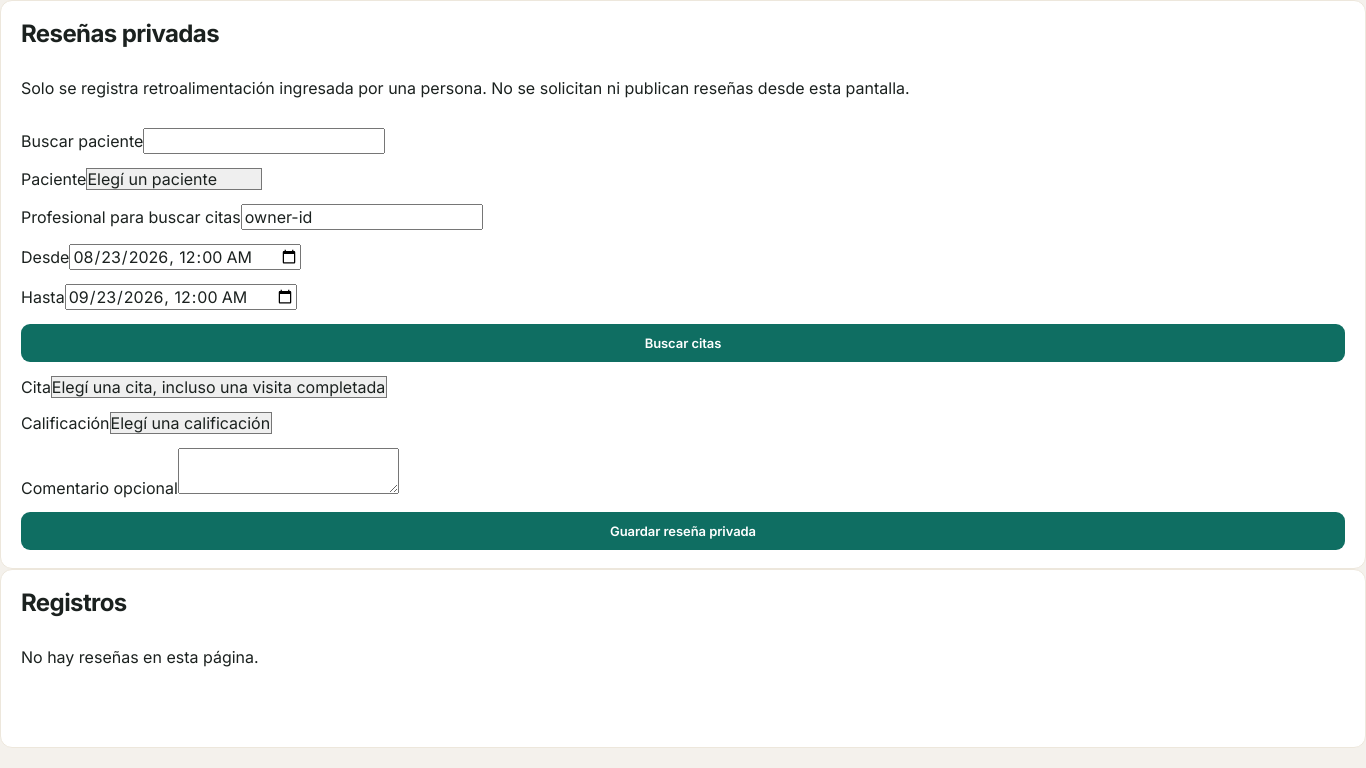
it: ReviewsPage › rejects a fresh appointment with missing or empty patientId before creating a review
Select "Ana Uno · expediente 1" in the dropdown labelled "Paciente" at x=174, y=179, box x1=86 y1=168 x2=262 y2=190
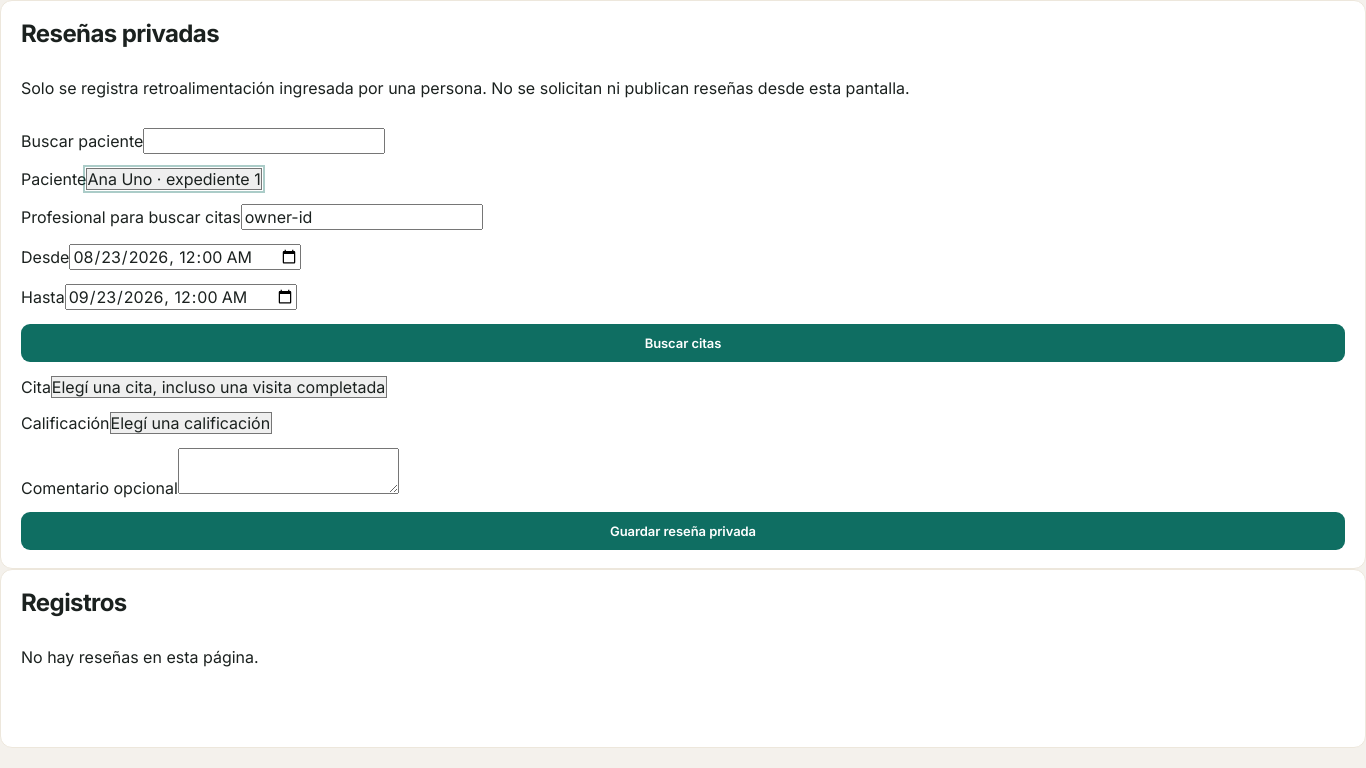
Click the button "Buscar citas".
click(683, 343)  # box x1=21 y1=324 x2=1345 y2=362
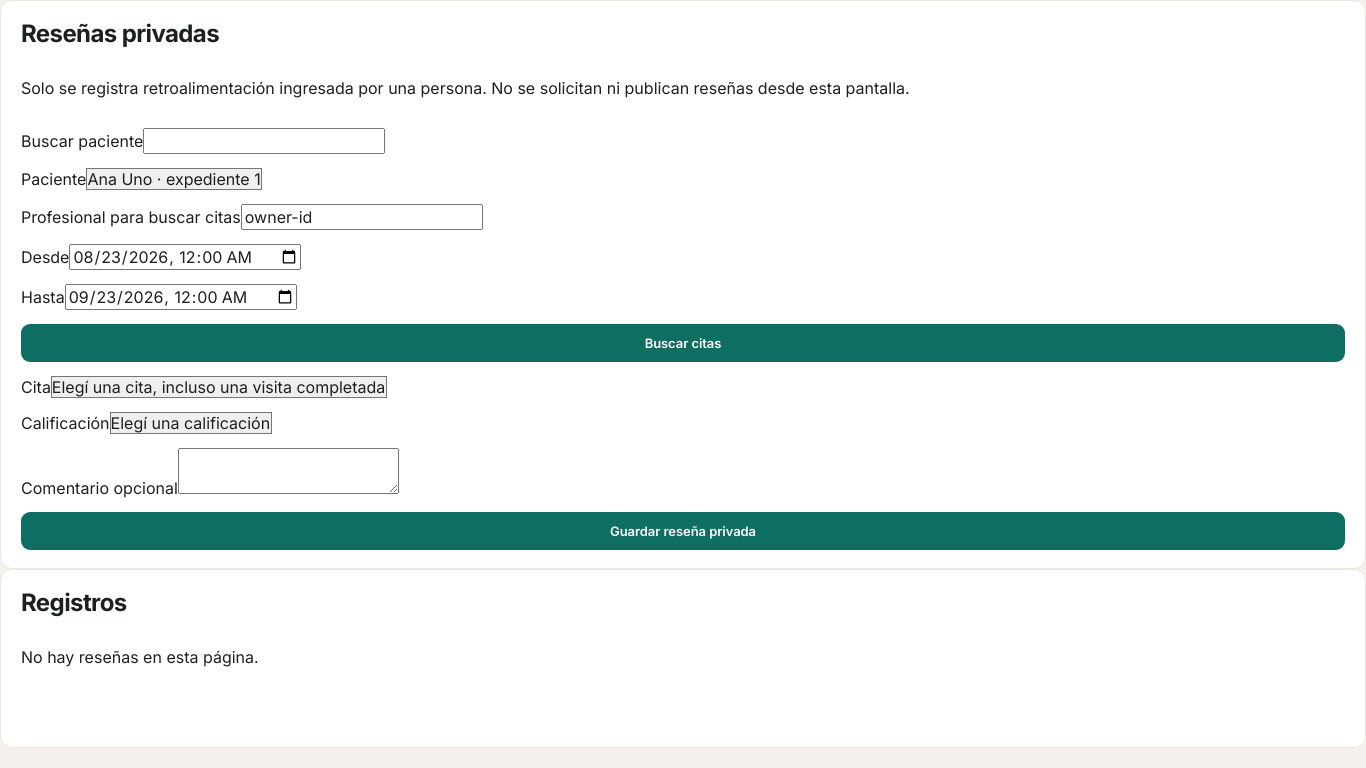
Select "2020-01-01T10:00:00Z · COMPLETED" in the dropdown labelled "Cita" at x=219, y=387, box x1=51 y1=376 x2=387 y2=398
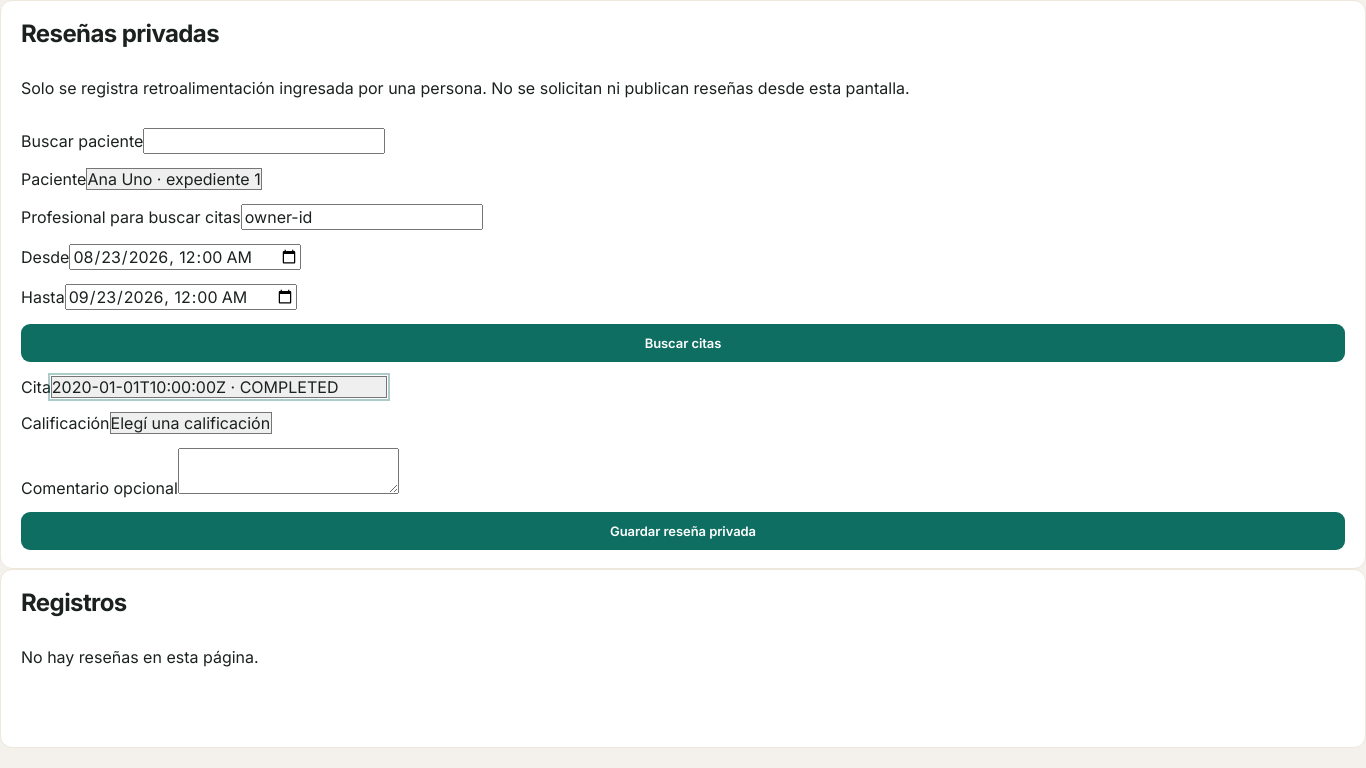
Select "4" in the dropdown labelled "Calificación" at x=191, y=423, box x1=110 y1=412 x2=272 y2=434
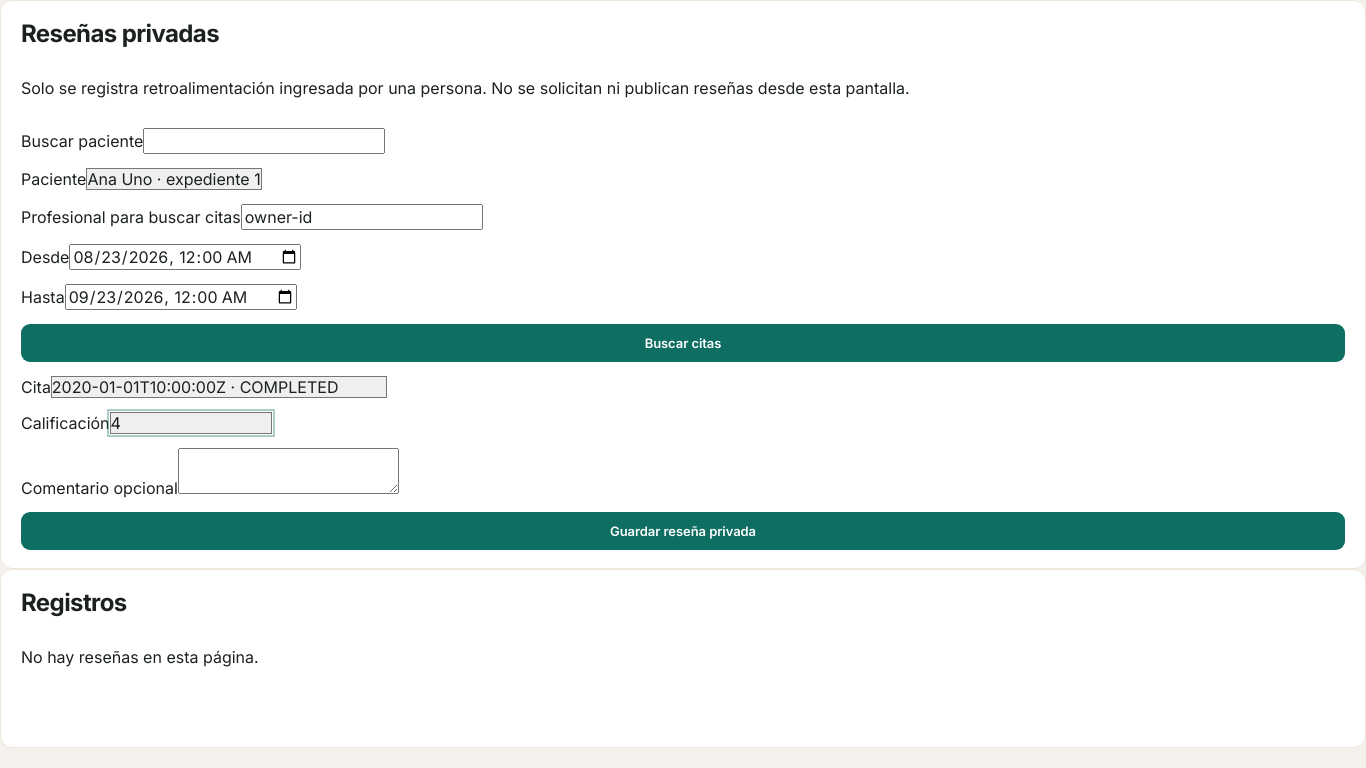
Click the button "Guardar reseña privada".
click(683, 531)  # box x1=21 y1=512 x2=1345 y2=550
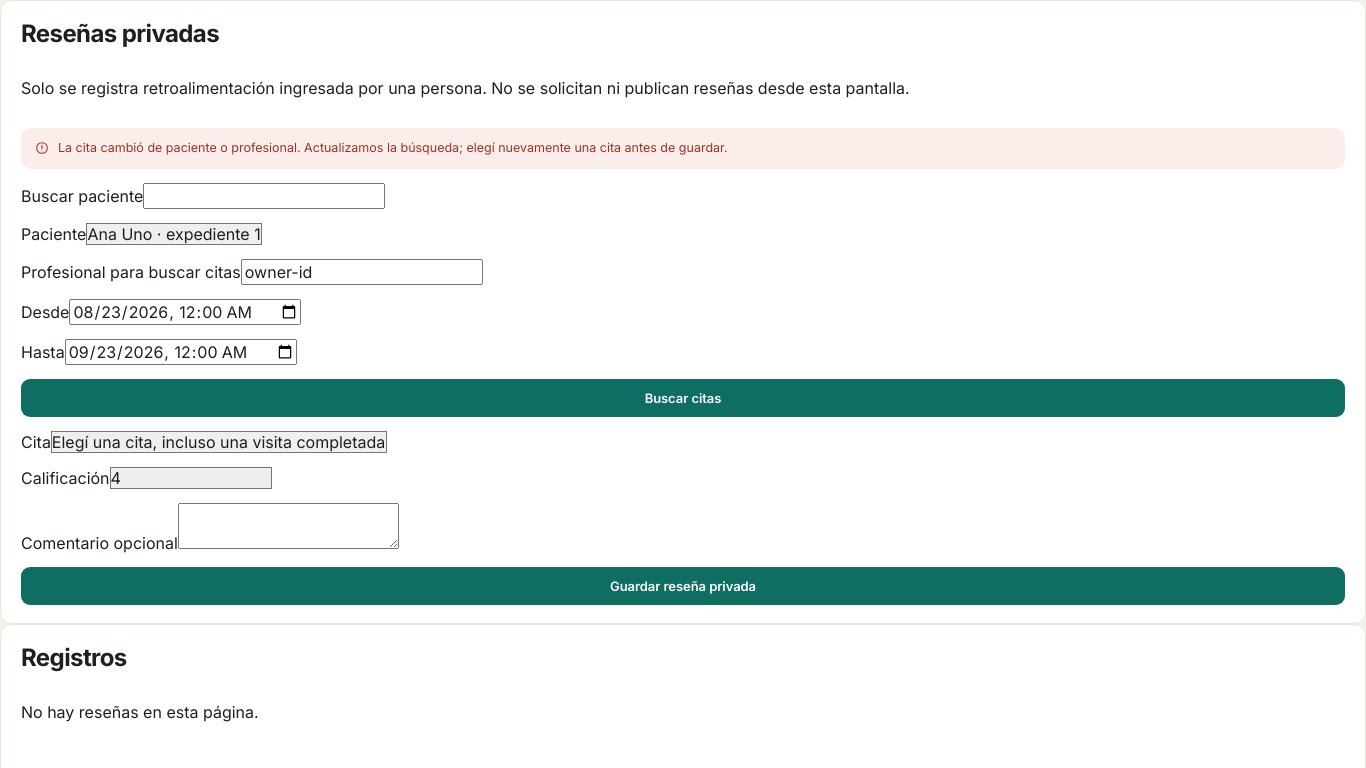
Expected: the text "cita cambió de paciente o profesional" is shown, x1=58 y1=140 x2=728 y2=155
